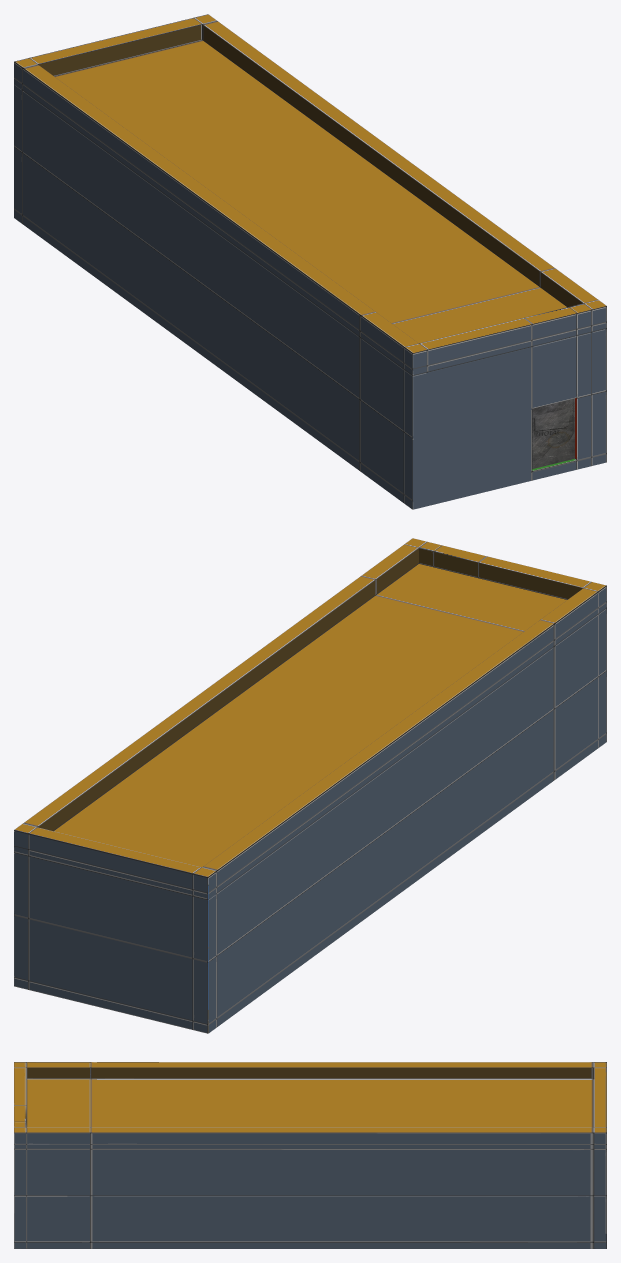
File: shootRoom.fbx
3 renders of one model, top to bottom at view 1: azimuth 30°, elevation 25°; view 2: azimuth 150°, elevation 25°; view 3: azimuth 270°, elevation 25°, orthographic. The views are drawn at different scales.
Visible parts, largest first — view 1: ScifiRoom, ScifiRoomDoor; view 2: ScifiRoom; view 3: ScifiRoom.
Part boxes in pixels (left/top/right/bottom): ScifiRoom: left=14, top=14, right=606, bottom=509; ScifiRoomDoor: left=532, top=398, right=574, bottom=468; ScifiRoom: left=14, top=538, right=606, bottom=1033; ScifiRoom: left=14, top=1062, right=606, bottom=1248.
Bounding box in the file's own units: 13 × 10 × 46.21.
Materials: 2 (2 with a texture image).
